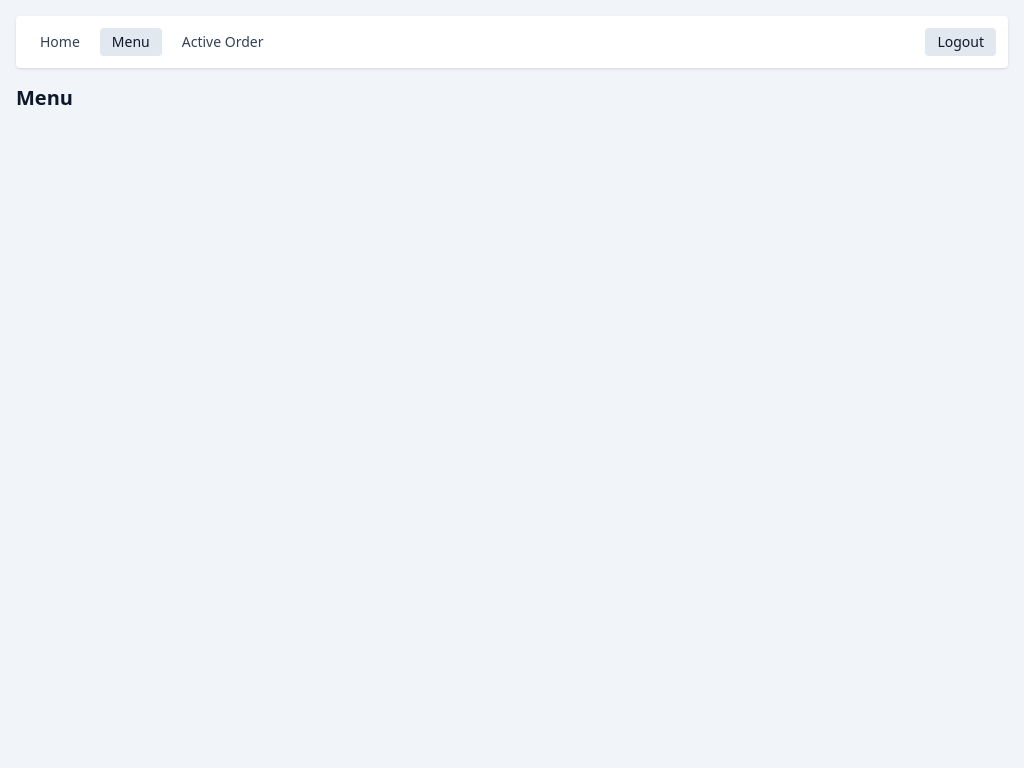
Test case: Phase 10 routing and online behavior › shows Active Order nav link for online users and returns to /online from menu
Click the link "Active Order".
click(223, 42)  # box [182,32,264,51]
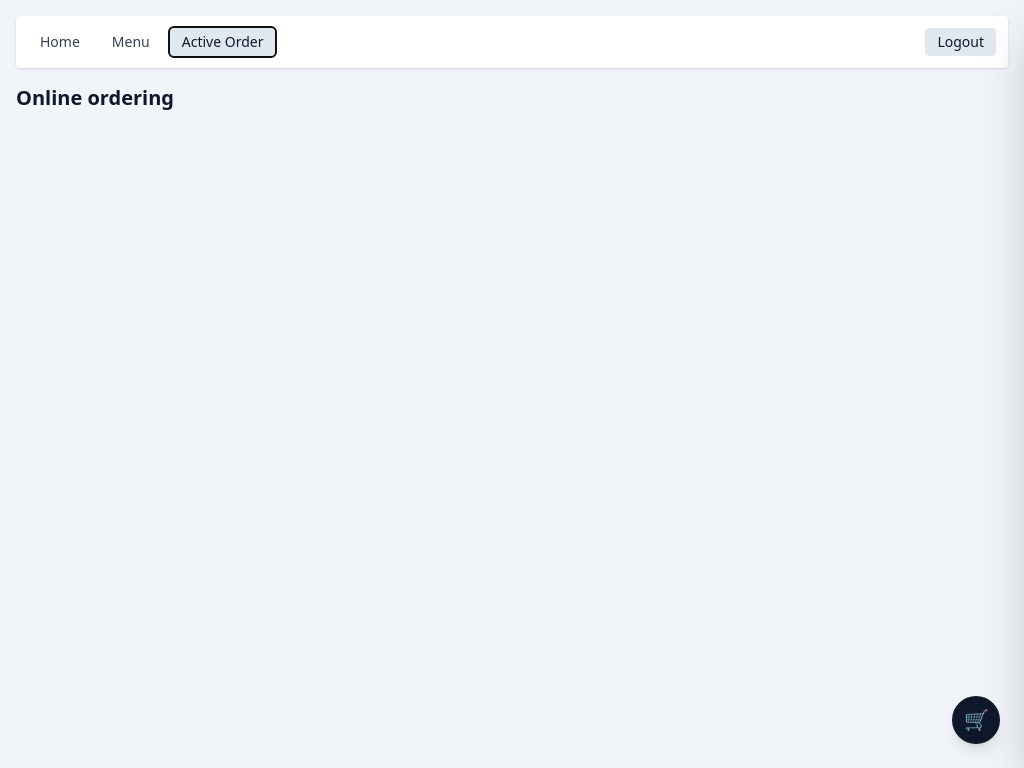
Expected: the heading "Online ordering" is shown, [16,84,174,111]
